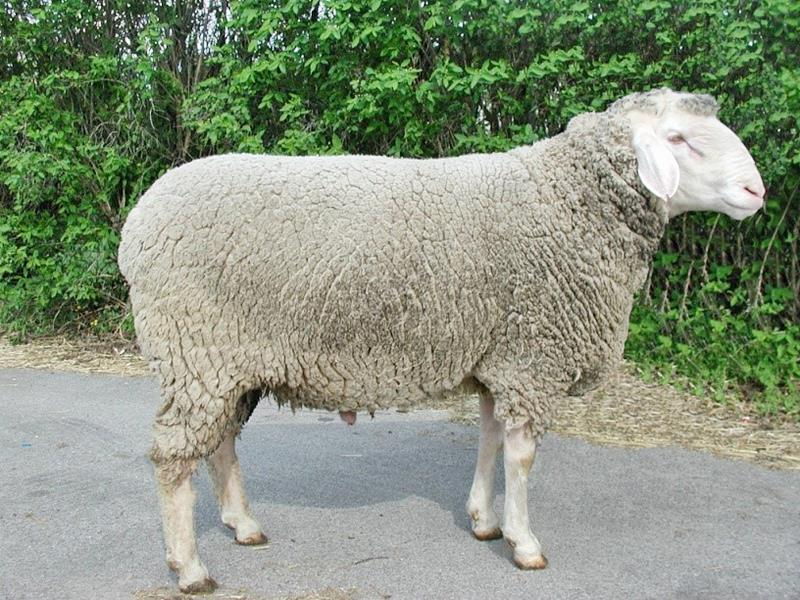sheep: (114, 84, 761, 537)
